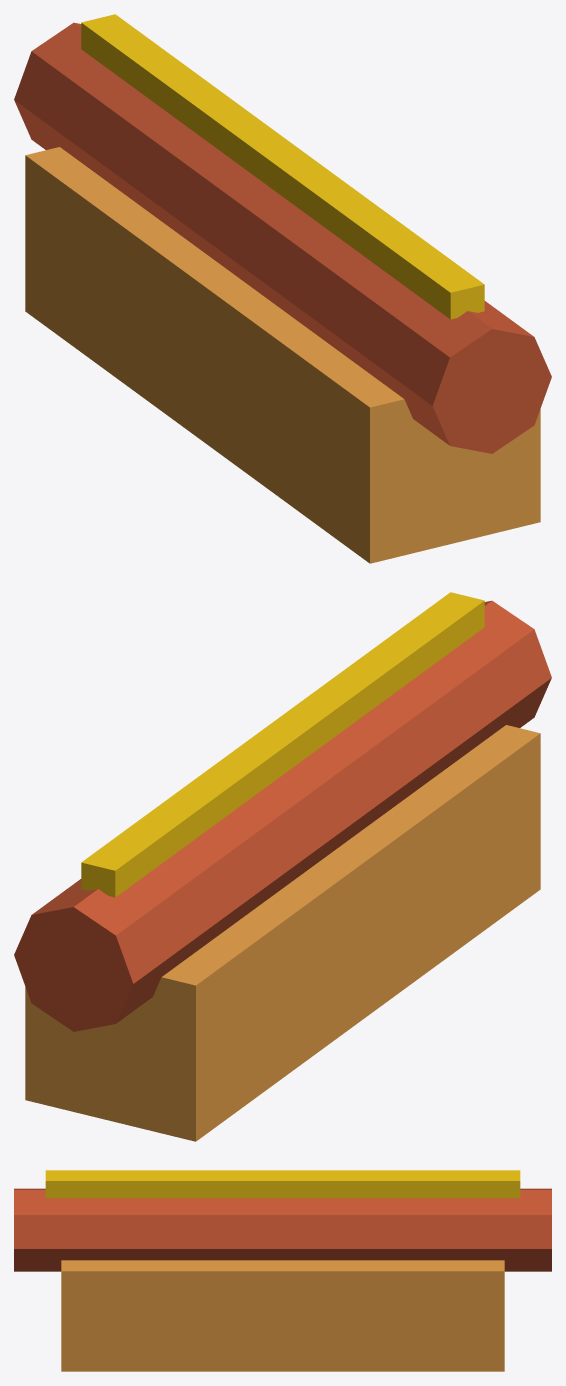
Rendered from hotdog.glb.
The picture shows the model from 3 angles, top to bottom: view 1: azimuth 30°, elevation 25°; view 2: azimuth 150°, elevation 25°; view 3: azimuth 270°, elevation 25°; orthographic projection. The views are drawn at different scales.
Visible parts, largest first — view 1: hotdog; view 2: hotdog; view 3: hotdog.
Part boxes in pixels (left/top/right/bottom): hotdog: left=14, top=14, right=551, bottom=563; hotdog: left=14, top=592, right=551, bottom=1141; hotdog: left=14, top=1170, right=551, bottom=1371.
Bounding box in the file's own units: 0.04 × 0.059 × 0.17.
